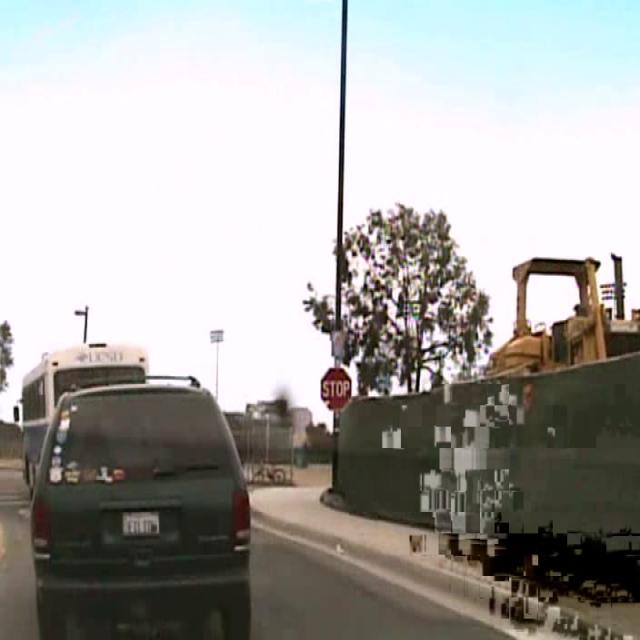stop_sign: (319, 365, 352, 411)
